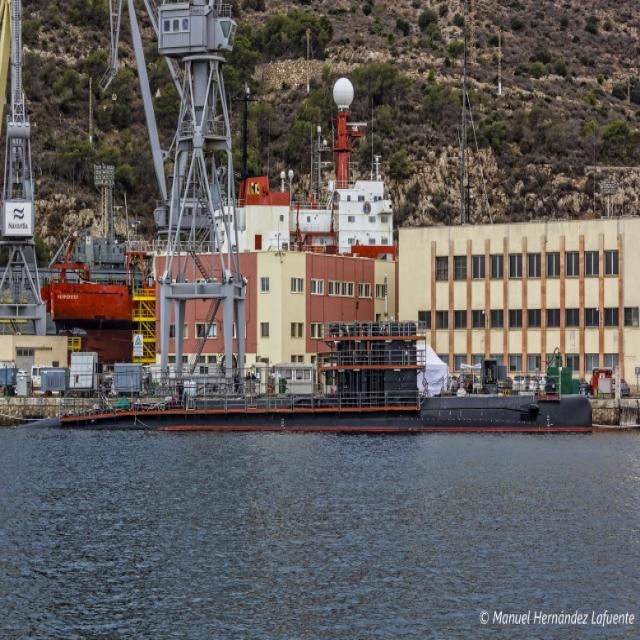submarine: (55, 322, 601, 435)
